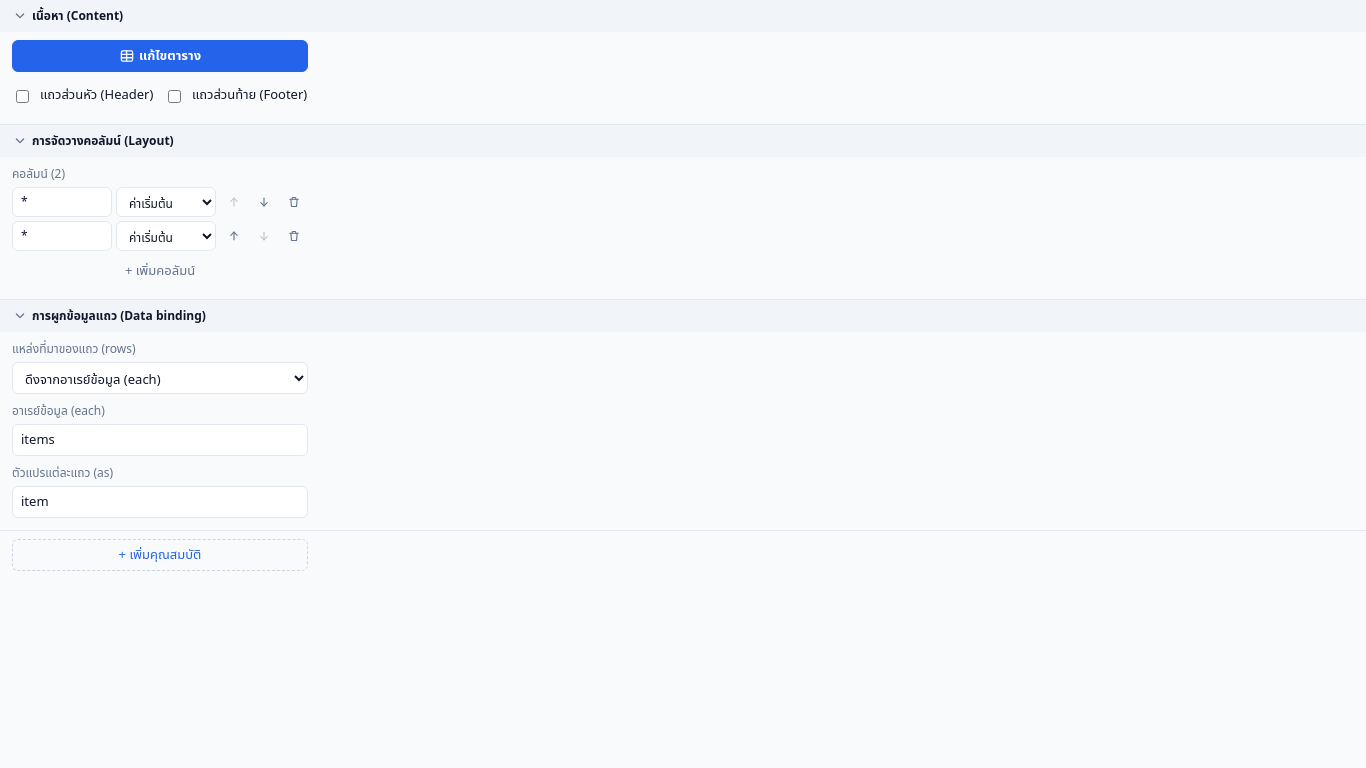
Test case: TableProps, TableGridDialog and Dialog › TableProps with an empty array still opens the grid
This screenshot has width=1366, height=768.
Click the button "แก้ไขตาราง". click: (160, 56)
box: 12,40 -> 308,72
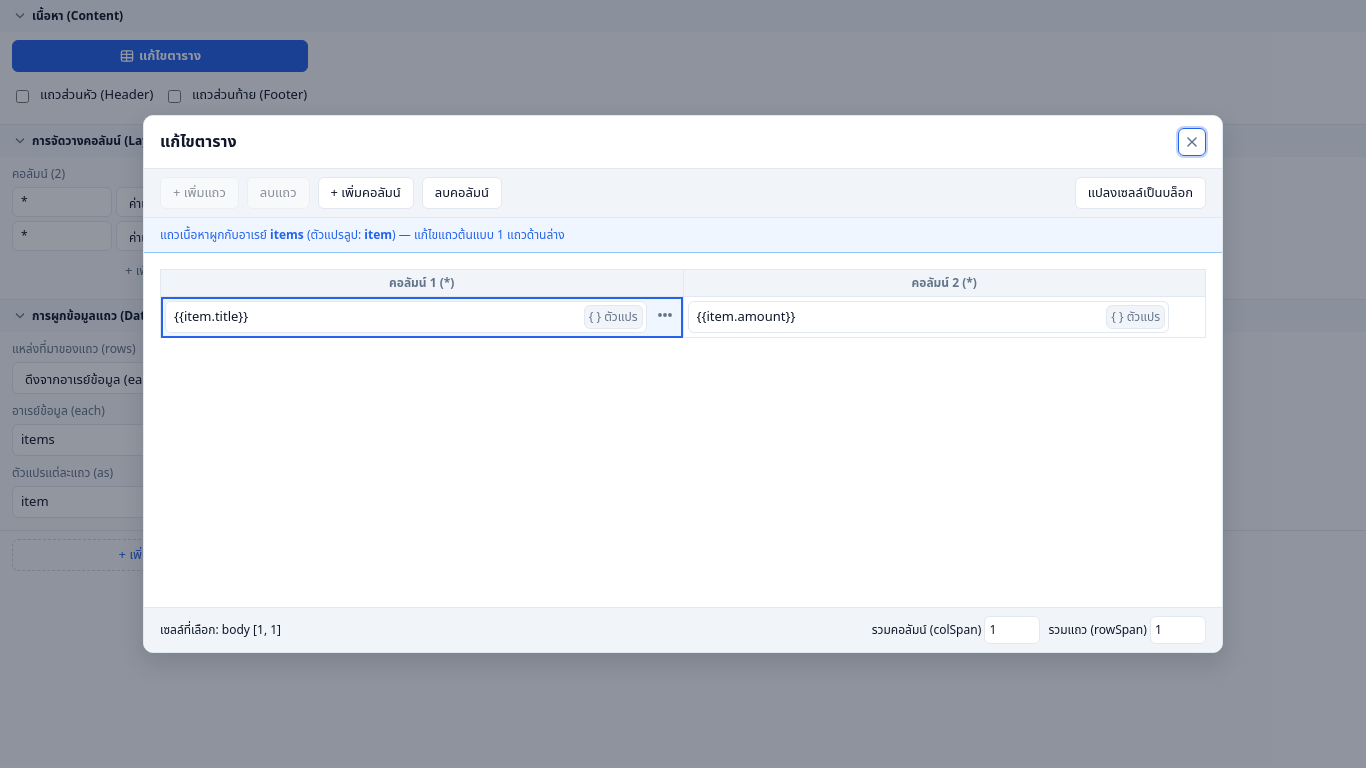
Result: the dialog is shown at 143,115 -> 1223,653
Result: the field named "Body cell 1,1" holds "{{item.title}}" at 165,301 -> 646,333
